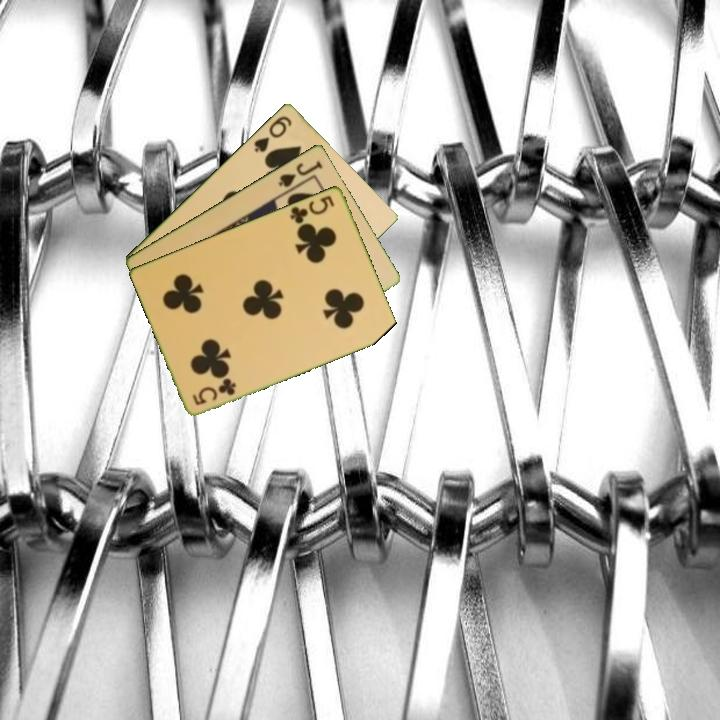5c: (286, 192, 338, 226), (189, 374, 239, 408)
6s: (250, 112, 295, 155)
Js: (274, 157, 326, 190)
